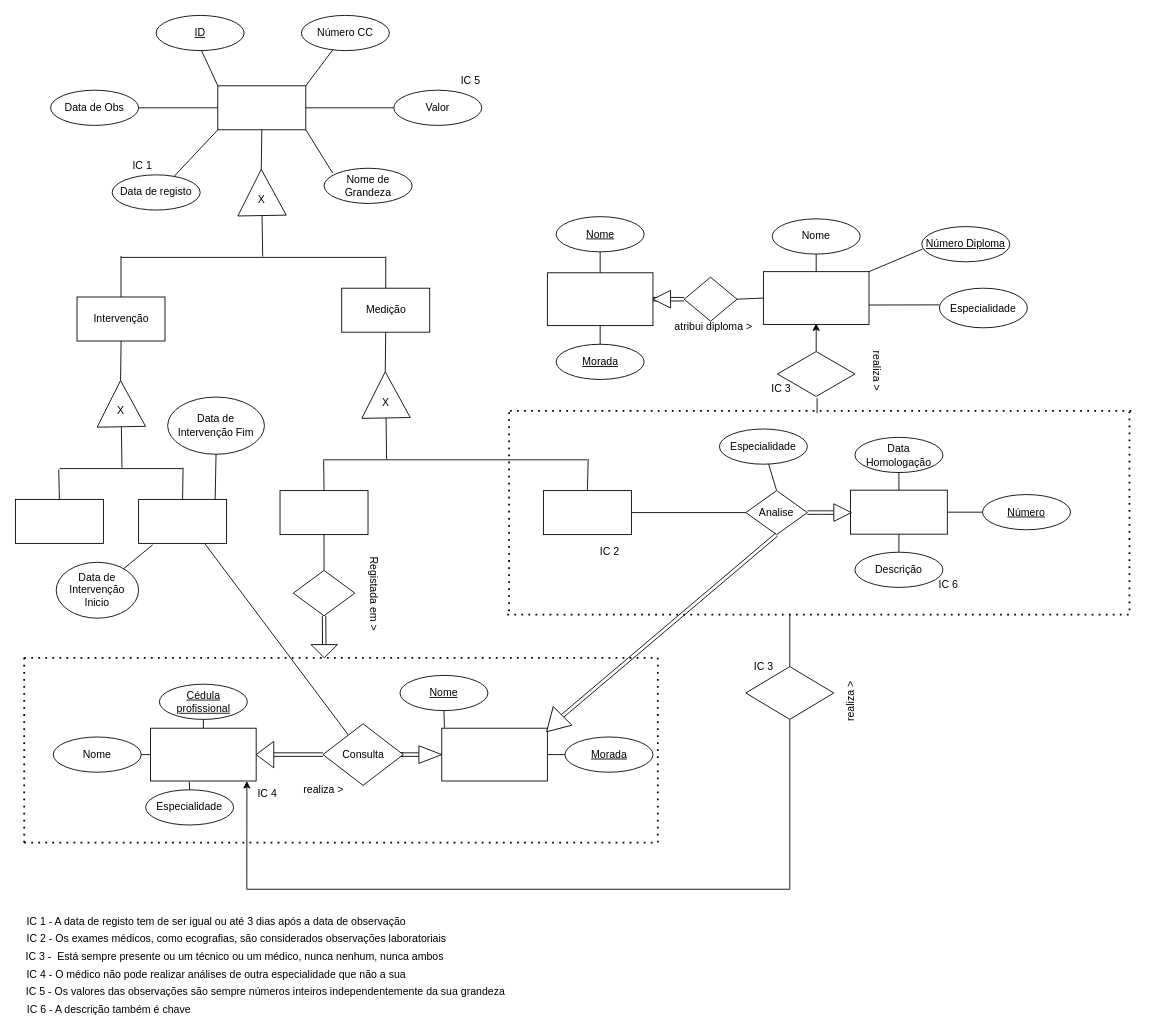
The diagram is 1152 pixels wide and 1034 high, and some of its shapes have lost their labels. Each missing label, with the box of its shape:
Cirúrgica: (15, 499, 103, 543)
Clínica: (279, 490, 368, 535)
Escola: (546, 272, 653, 326)
Farmaceutica: (138, 499, 227, 543)
Laboratorial: (543, 490, 631, 535)
Médico: (150, 727, 256, 781)
Observação: (217, 85, 306, 130)
Protocolo: (850, 489, 947, 534)
Técnico: (763, 271, 869, 324)
Unidade de saúde: (441, 727, 547, 781)
